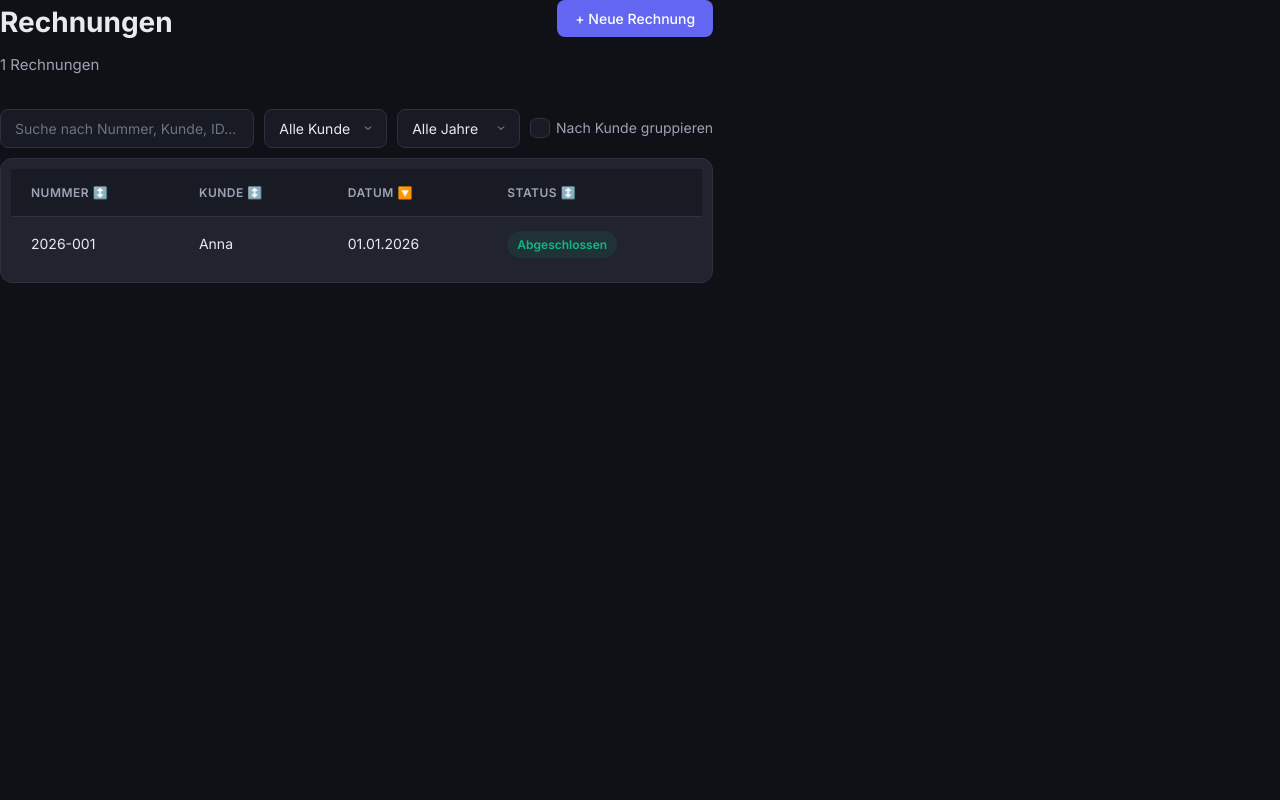
Test: Finale Rechnung ist gesperrt (#283) › blendet bei finaler Rechnung Löschen und Bearbeiten aus
This screenshot has width=1280, height=800.
Click the text "2026-001".
click(95, 244)  # box [11,216,179,272]
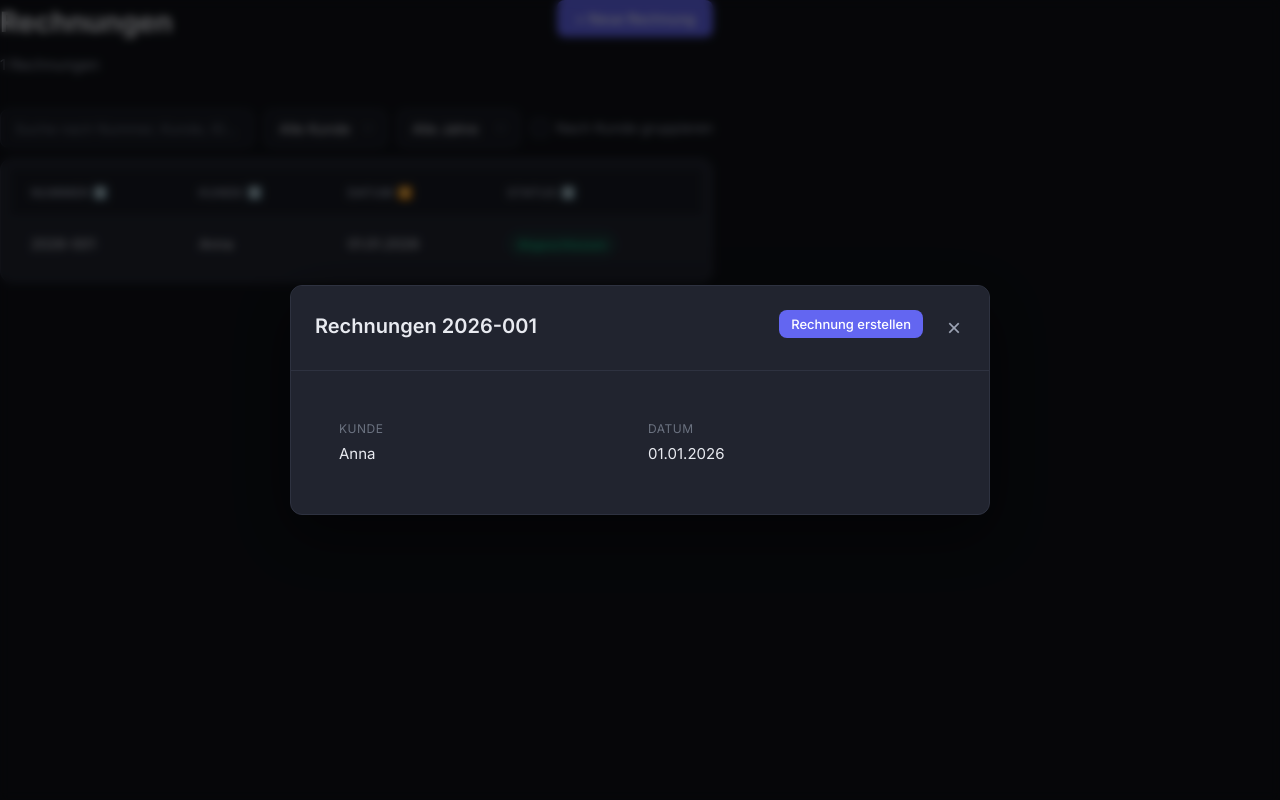
Check: the text "Kunde" is shown, box [339,421,383,436]
